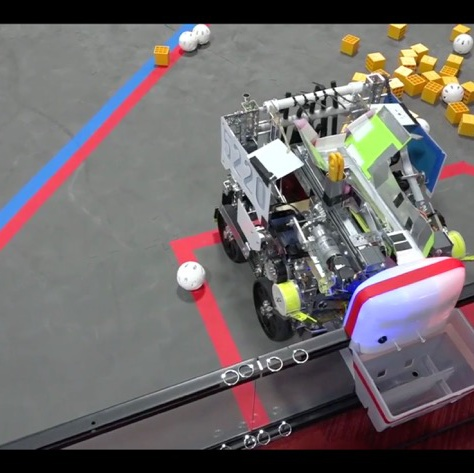robot: (216, 70, 474, 346)
